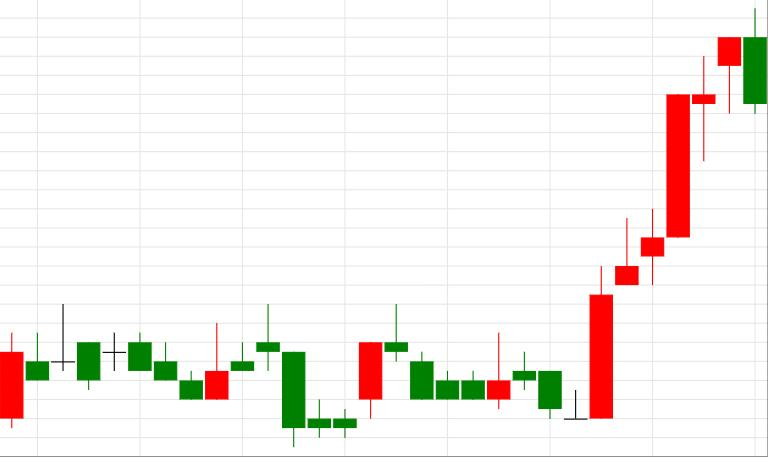bearish_engulfing_fall: (589, 10, 768, 418)
hanging_man_fall: (590, 37, 741, 419)
